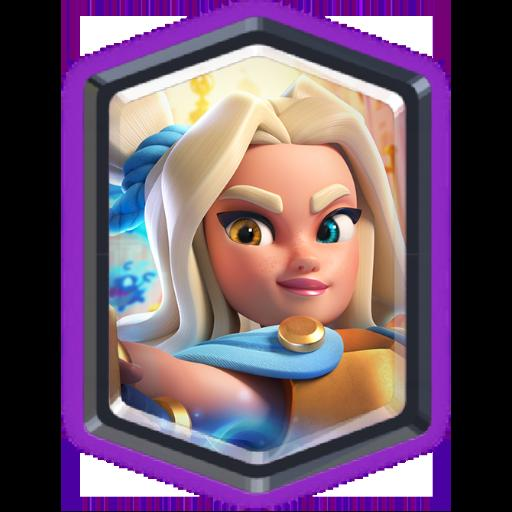spirit-empress: (96, 70, 416, 426)
